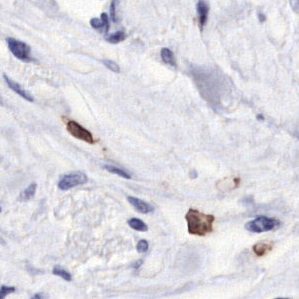Lymphocyte: (65, 119, 94, 145)
